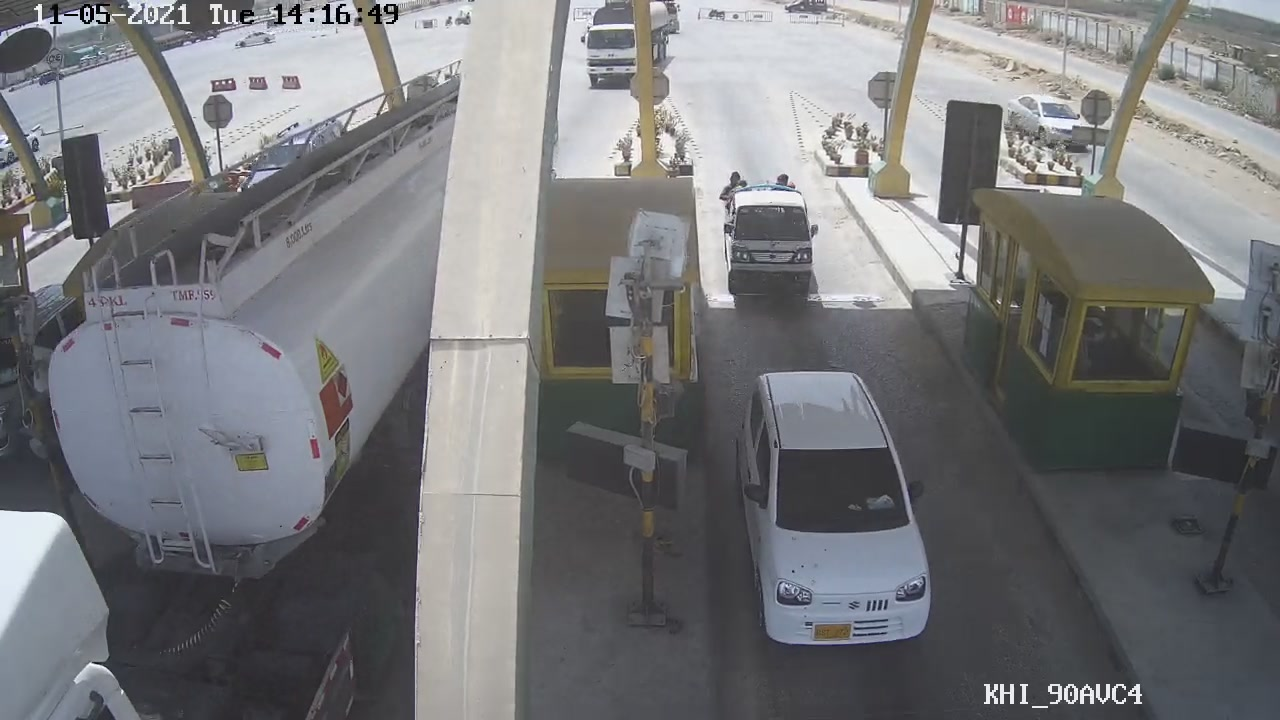F1: (730, 370, 933, 659), (719, 169, 828, 309)
